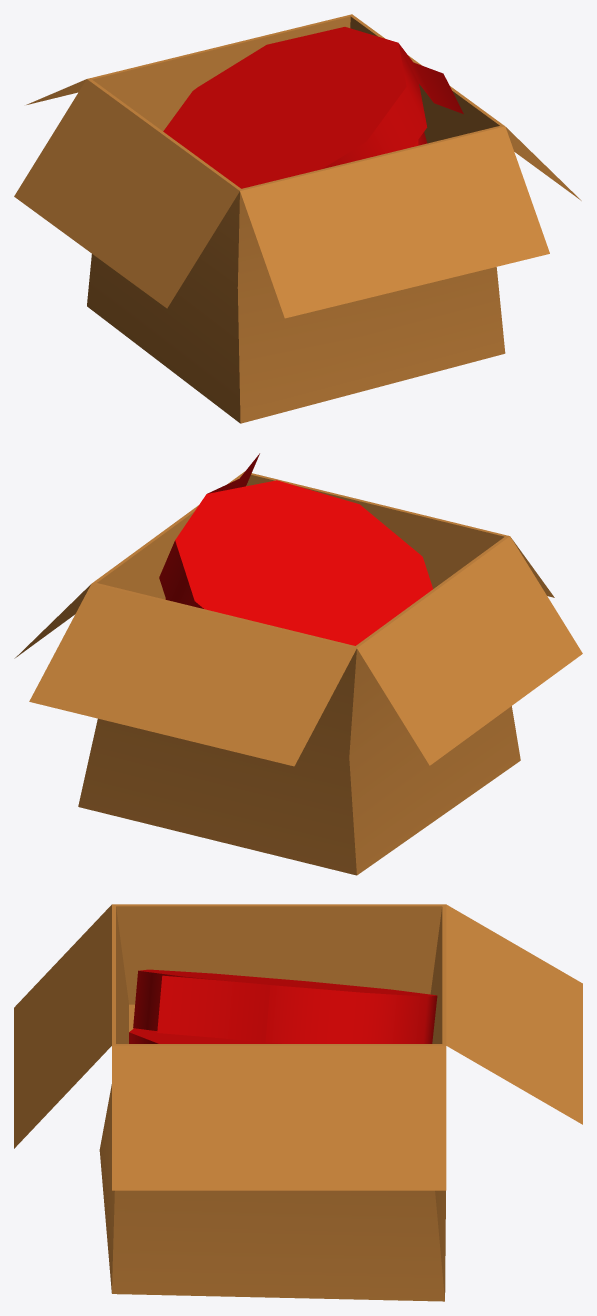
Rendered from ticket_box_open.fbx.
3 renders of one model, top to bottom at view 1: azimuth 30°, elevation 25°; view 2: azimuth 150°, elevation 25°; view 3: azimuth 270°, elevation 25°, orthographic. The views are drawn at different scales.
Parts seen in each view (by area): view 1: ticket_box_open; view 2: ticket_box_open; view 3: ticket_box_open.
Part boxes in pixels (bbox=[...]): ticket_box_open: bbox=[14, 14, 581, 423]; ticket_box_open: bbox=[14, 453, 582, 875]; ticket_box_open: bbox=[14, 904, 582, 1301].
Bounding box in the file's own units: 137 × 85.57 × 148.
